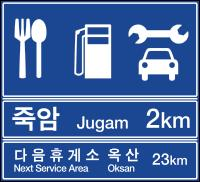Petrol Pump- Gas Station: (69, 12, 121, 89)
